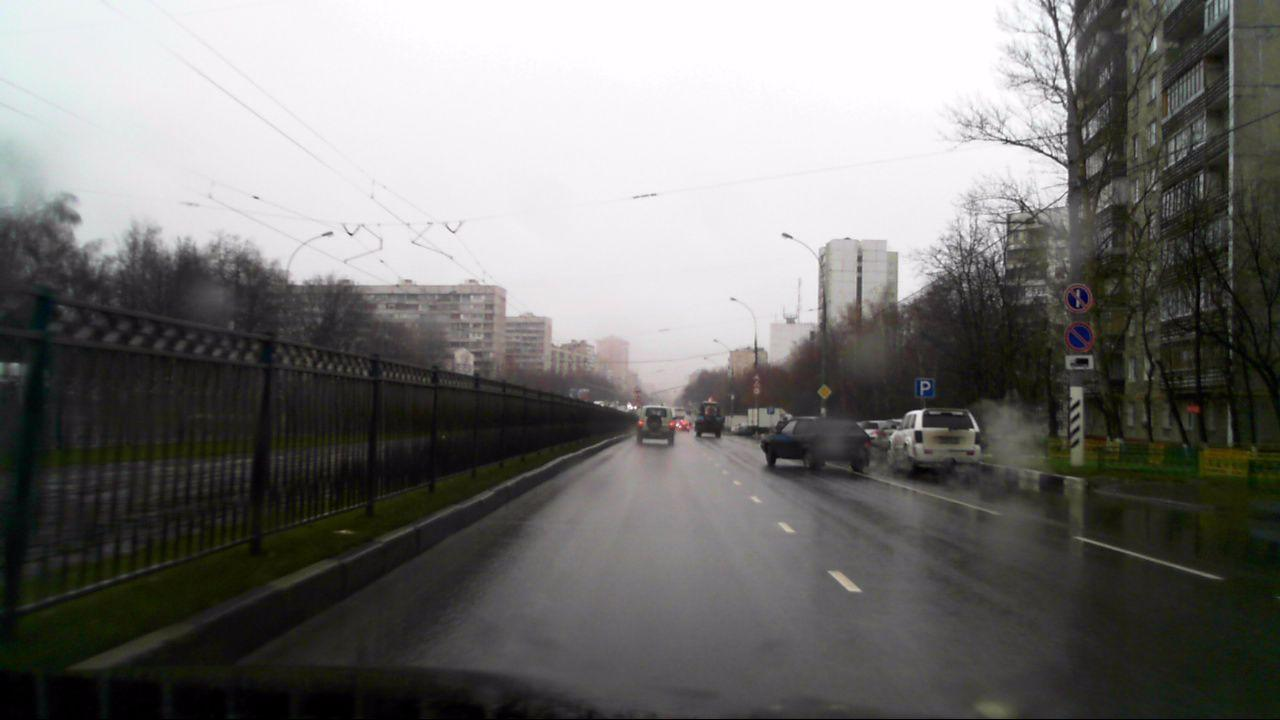2_1: (817, 384, 832, 399)
3_28: (1064, 319, 1096, 352)
3_29: (1063, 285, 1091, 315)
6_4: (915, 377, 936, 397)
8_4_1: (1064, 354, 1093, 371)
